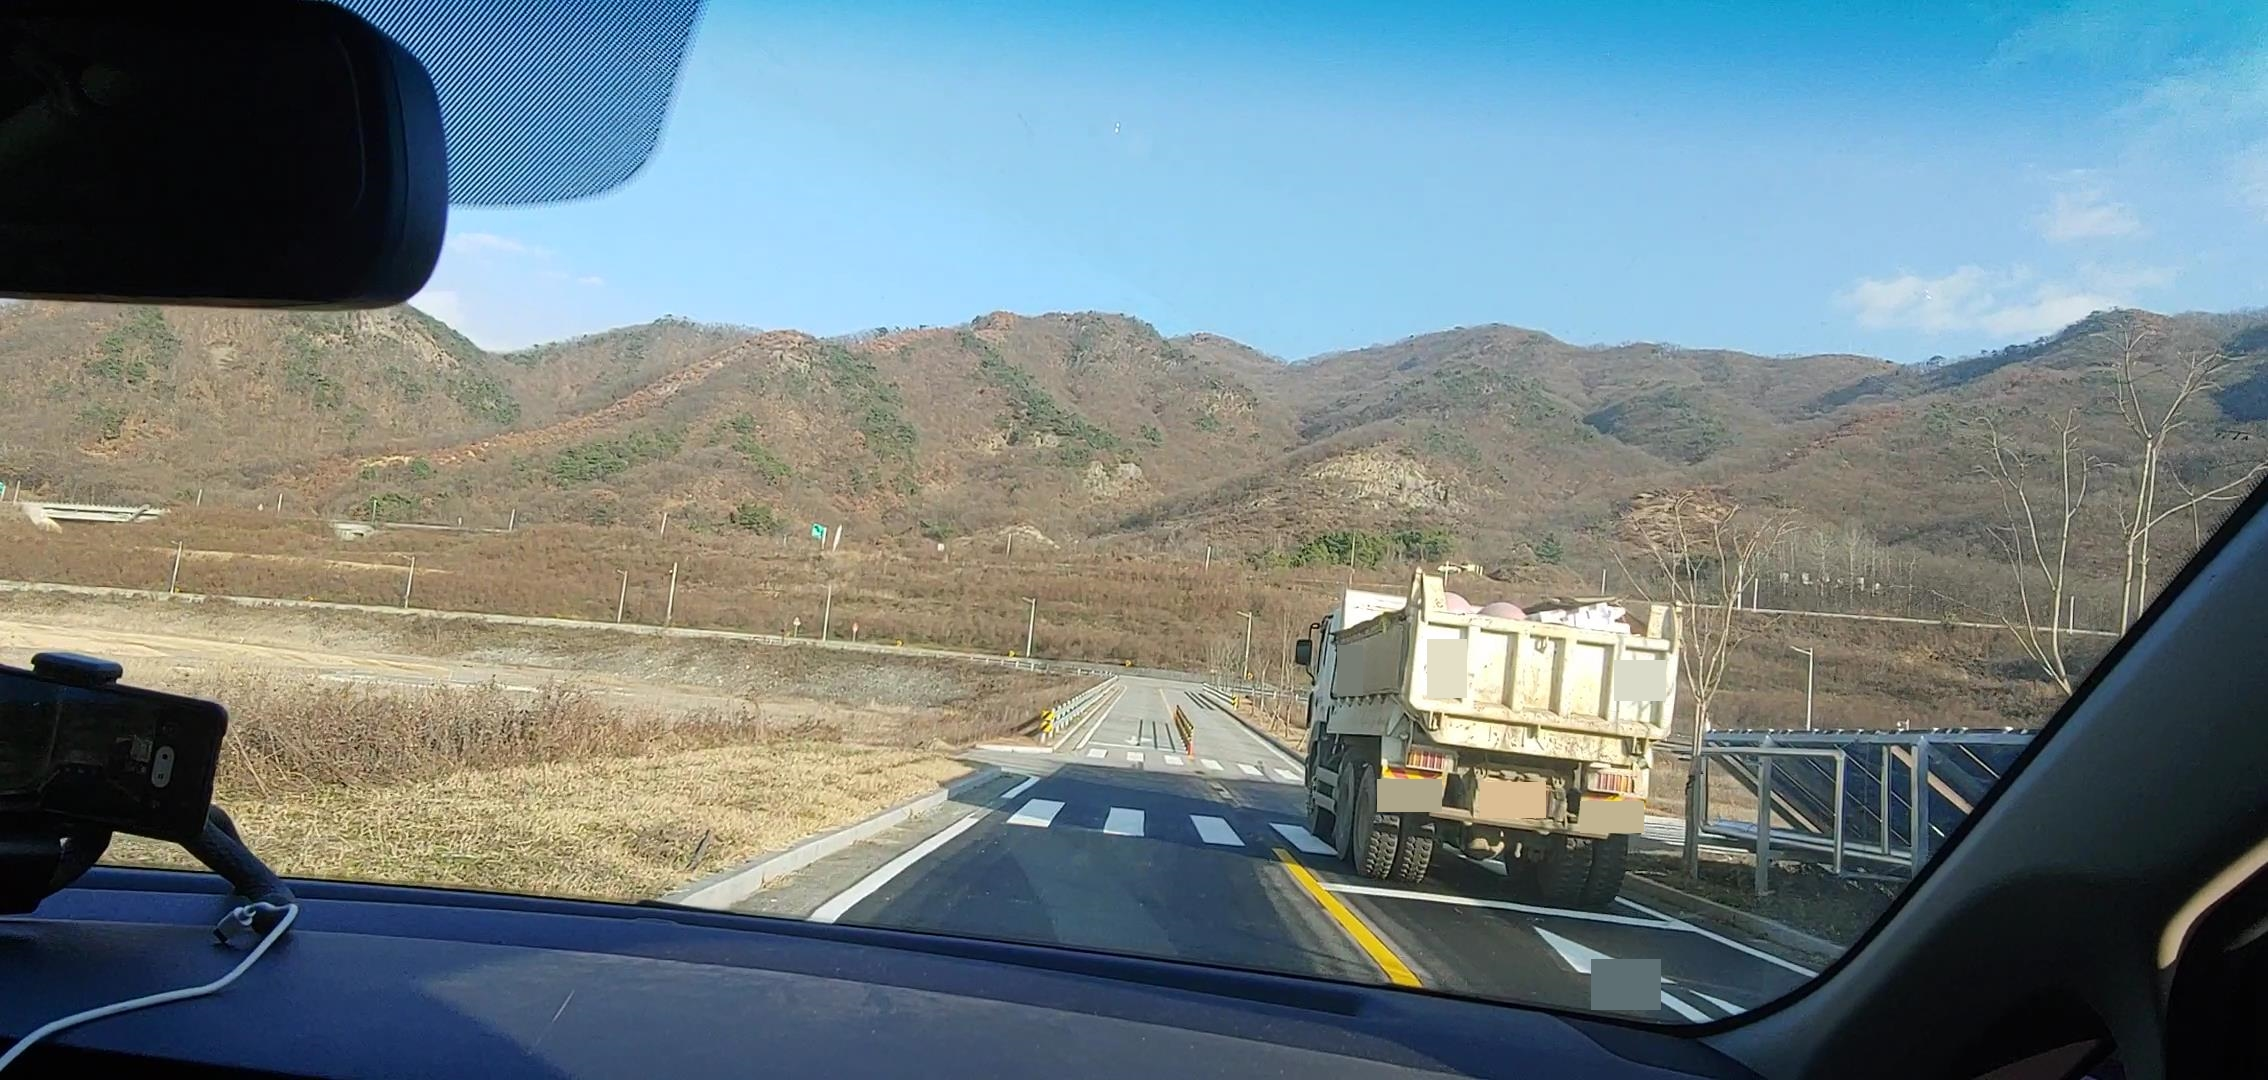불법차량: (1296, 565, 1684, 907)
